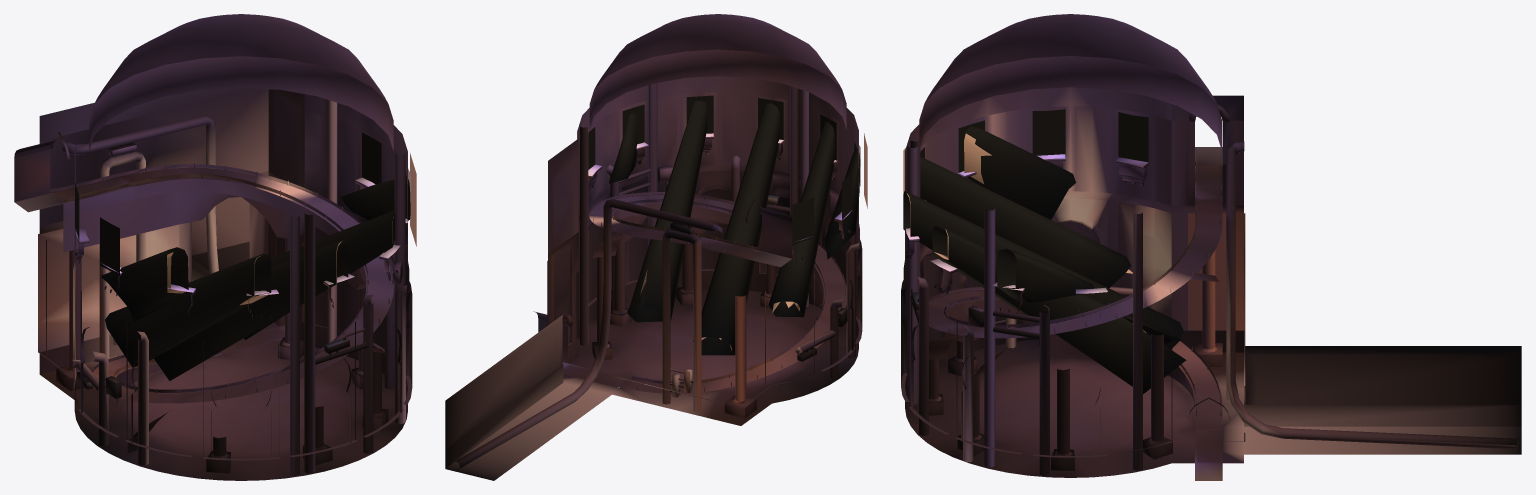
File: 08Spiral.gltf
The picture shows the model from 3 angles, left to right: view 1: azimuth 30°, elevation 25°; view 2: azimuth 150°, elevation 25°; view 3: azimuth 270°, elevation 25°; orthographic projection. The views are drawn at different scales.
Parts seen in each view (by area): view 1: stg033_g18_Mesh_0001, stg033_o18_Mesh_0025, stg033_o18_Mesh_0006, stg033_o18_Mesh_0010, stg033_o18_Mesh_0037, stg033_o18_Mesh_0013, stg033_o18_Mesh_0004, stg033_o18_Mesh_0042, stg033_o18_Mesh_0038, stg033_o18_Mesh_0035, stg033_o18_Mesh_0019, stg033_o18_Mesh_0008 (+18 smaller); view 2: stg033_g18_Mesh_0001, stg033_o18_Mesh_0025, stg033_o18_Mesh_0038, stg033_o18_Mesh_0006, stg033_o18_Mesh_0037, stg033_o18_Mesh_0010, stg033_o18_Mesh_0013, stg033_o18_Mesh_0019, stg033_o18_Mesh_0042, stg033_o18_Mesh_0036, stg033_o18_Mesh_0004, stg033_o18_Mesh_0005 (+16 smaller); view 3: stg033_g18_Mesh_0001, stg033_o18_Mesh_0025, stg033_o18_Mesh_0038, stg033_o18_Mesh_0036, stg033_o18_Mesh_0006, stg033_o18_Mesh_0010, stg033_o18_Mesh_0019, stg033_o18_Mesh_0013, stg033_o18_Mesh_0042, stg033_o18_Mesh_0005, stg033_o18_Mesh_0004, stg033_o18_Mesh_0008 (+15 smaller).
Boxes of the visible parts, x1,y1,x2,y2 form: stg033_g18_Mesh_0001: (75, 132, 410, 380); stg033_o18_Mesh_0025: (62, 99, 407, 475); stg033_o18_Mesh_0006: (38, 88, 412, 387); stg033_o18_Mesh_0010: (50, 56, 393, 161); stg033_o18_Mesh_0037: (38, 89, 398, 397); stg033_o18_Mesh_0013: (94, 14, 387, 103); stg033_o18_Mesh_0004: (74, 347, 407, 480); stg033_o18_Mesh_0042: (92, 167, 394, 403); stg033_o18_Mesh_0038: (16, 184, 341, 452); stg033_o18_Mesh_0035: (63, 191, 365, 407); stg033_o18_Mesh_0019: (74, 89, 407, 458); stg033_o18_Mesh_0008: (39, 171, 407, 383); stg033_g18_Mesh_0001: (588, 95, 860, 355); stg033_o18_Mesh_0025: (455, 83, 859, 469); stg033_o18_Mesh_0038: (446, 243, 799, 480); stg033_o18_Mesh_0006: (554, 92, 862, 318); stg033_o18_Mesh_0037: (548, 111, 862, 384); stg033_o18_Mesh_0010: (559, 49, 846, 326); stg033_o18_Mesh_0013: (594, 14, 841, 88); stg033_o18_Mesh_0019: (548, 92, 858, 390); stg033_o18_Mesh_0042: (589, 195, 846, 393); stg033_o18_Mesh_0036: (445, 325, 557, 449); stg033_o18_Mesh_0004: (578, 289, 858, 403); stg033_o18_Mesh_0005: (445, 233, 858, 468); stg033_g18_Mesh_0001: (903, 109, 1186, 393); stg033_o18_Mesh_0025: (907, 139, 1517, 475); stg033_o18_Mesh_0038: (979, 147, 1521, 480); stg033_o18_Mesh_0036: (1256, 354, 1521, 404); stg033_o18_Mesh_0006: (901, 106, 1226, 383); stg033_o18_Mesh_0010: (919, 56, 1229, 419); stg033_o18_Mesh_0019: (905, 106, 1243, 455); stg033_o18_Mesh_0013: (925, 14, 1216, 102); stg033_o18_Mesh_0042: (929, 198, 1222, 429); stg033_o18_Mesh_0005: (905, 319, 1521, 426); stg033_o18_Mesh_0004: (905, 339, 1171, 477); stg033_o18_Mesh_0008: (906, 191, 1256, 404).
Bounding box in the file's own units: 51.3 × 59.95 × 90.53.
